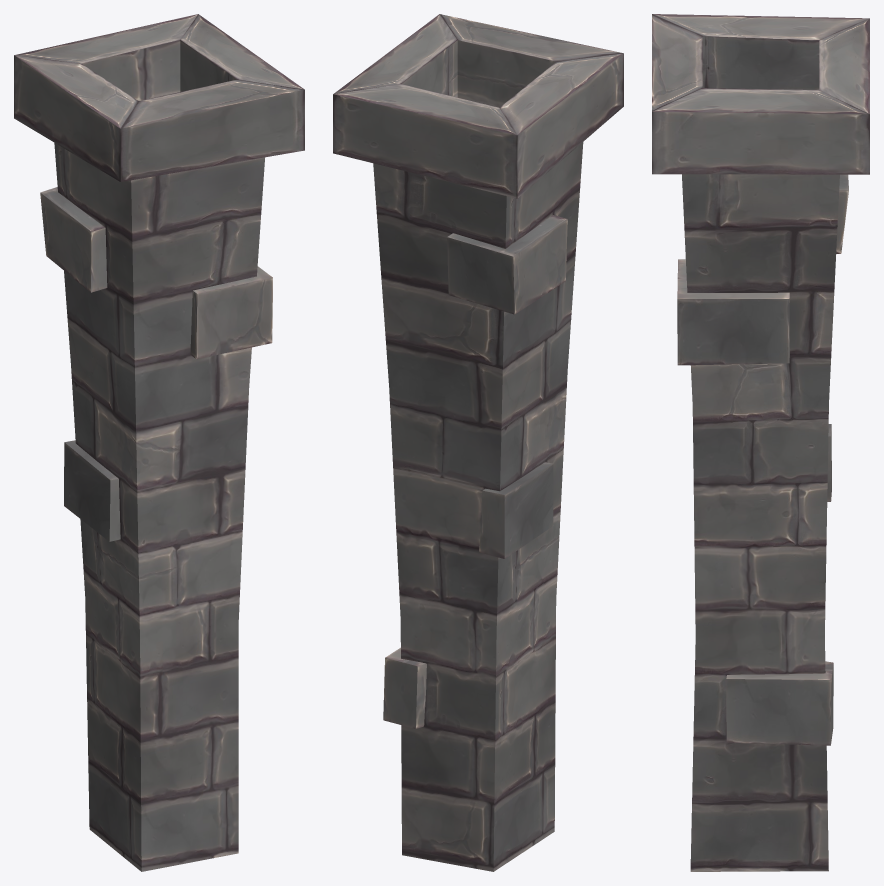
File: SM_BLD_chimney_v01_02.glb
3 renders of one model, left to right at view 1: azimuth 30°, elevation 25°; view 2: azimuth 150°, elevation 25°; view 3: azimuth 270°, elevation 25°, orthographic. The views are drawn at different scales.
Parts seen in each view (by area): view 1: SM_BLD_chimney_v01_02_EXPORT; view 2: SM_BLD_chimney_v01_02_EXPORT; view 3: SM_BLD_chimney_v01_02_EXPORT.
Part boxes in pixels (bbox=[...]): SM_BLD_chimney_v01_02_EXPORT: bbox=[14, 14, 304, 871]; SM_BLD_chimney_v01_02_EXPORT: bbox=[333, 14, 623, 871]; SM_BLD_chimney_v01_02_EXPORT: bbox=[652, 14, 869, 871].
Size of the model in its own units: 1.42 by 5.7 by 1.42.
Materials: 1 (1 with a texture image).
